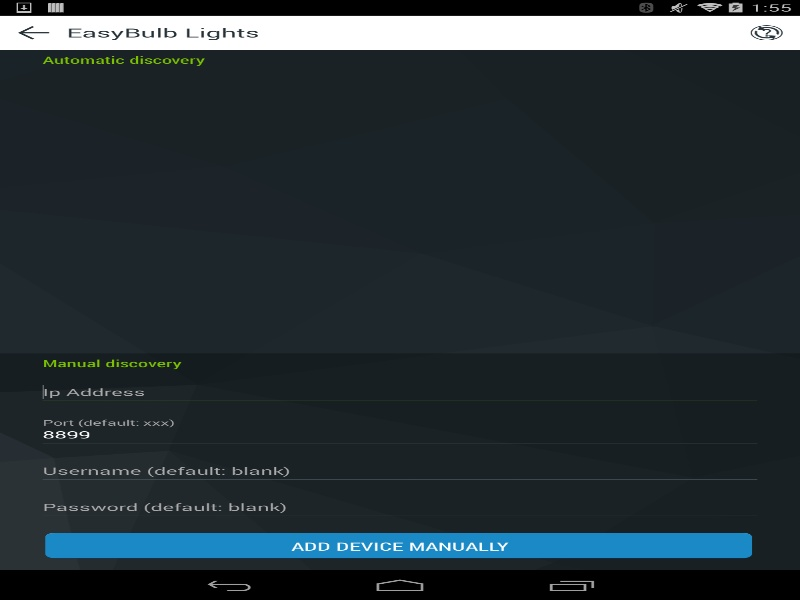Input: (42, 427, 757, 441), (42, 385, 757, 398), (42, 464, 757, 477), (42, 500, 757, 513)
